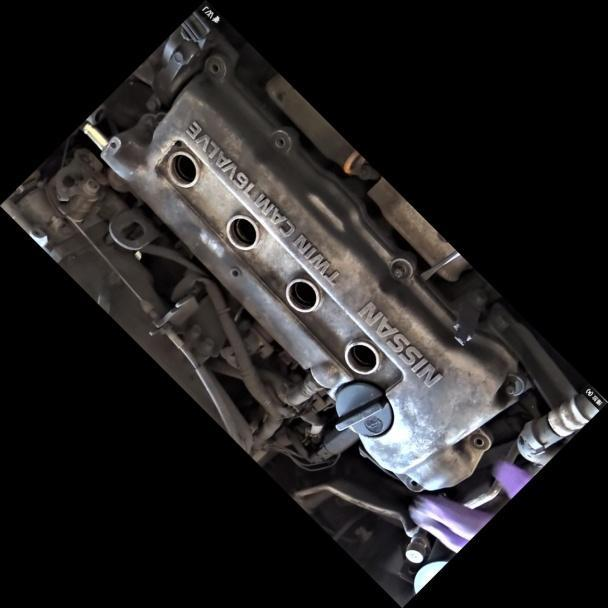hole: (271, 133, 288, 149), (207, 59, 222, 75), (227, 264, 242, 279), (471, 434, 485, 447), (408, 477, 419, 488)
